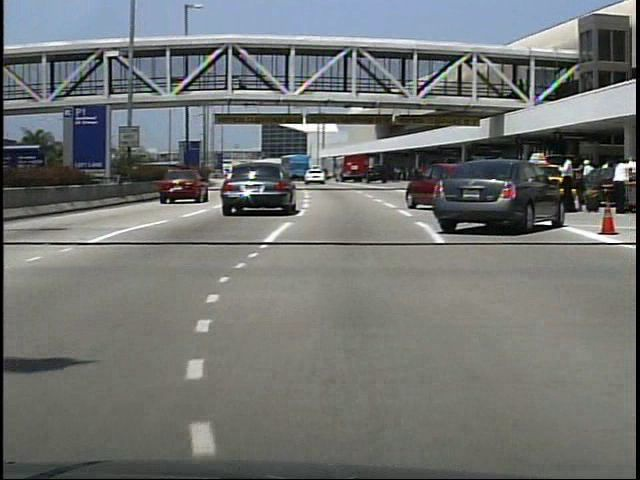person: (551, 154, 575, 215), (606, 160, 630, 213), (578, 159, 596, 211), (221, 68, 234, 93)
